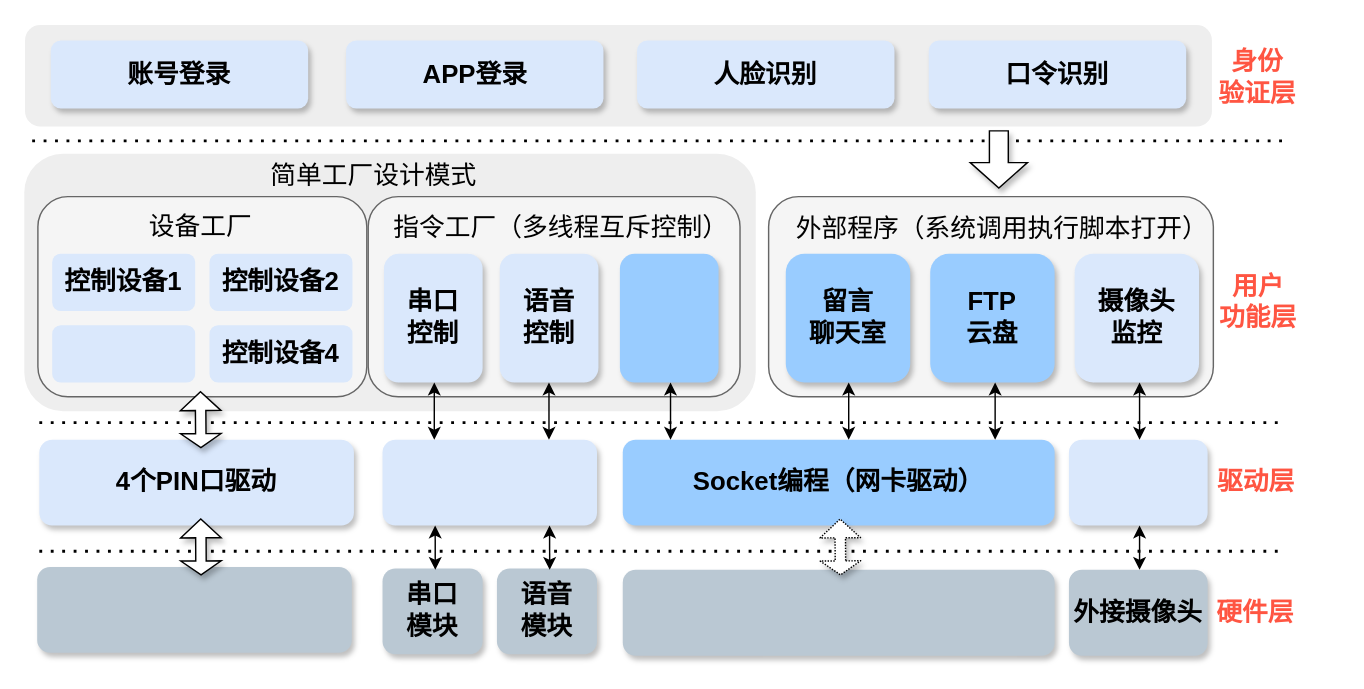
Image size: 1364x689. Some labels were removed from this diagram. Each missing label, with the centre of its shape:
"MJPG-Streamer" goes at (1139,484).
"wiringPi库 （串口驱动）" goes at (490,484).
"外接4路继电器" goes at (195,611).
"控制设备3" goes at (122,353).
"网络 控制" goes at (669,319).
"远程Linux客户端 & 安卓APP" goes at (839,614).
